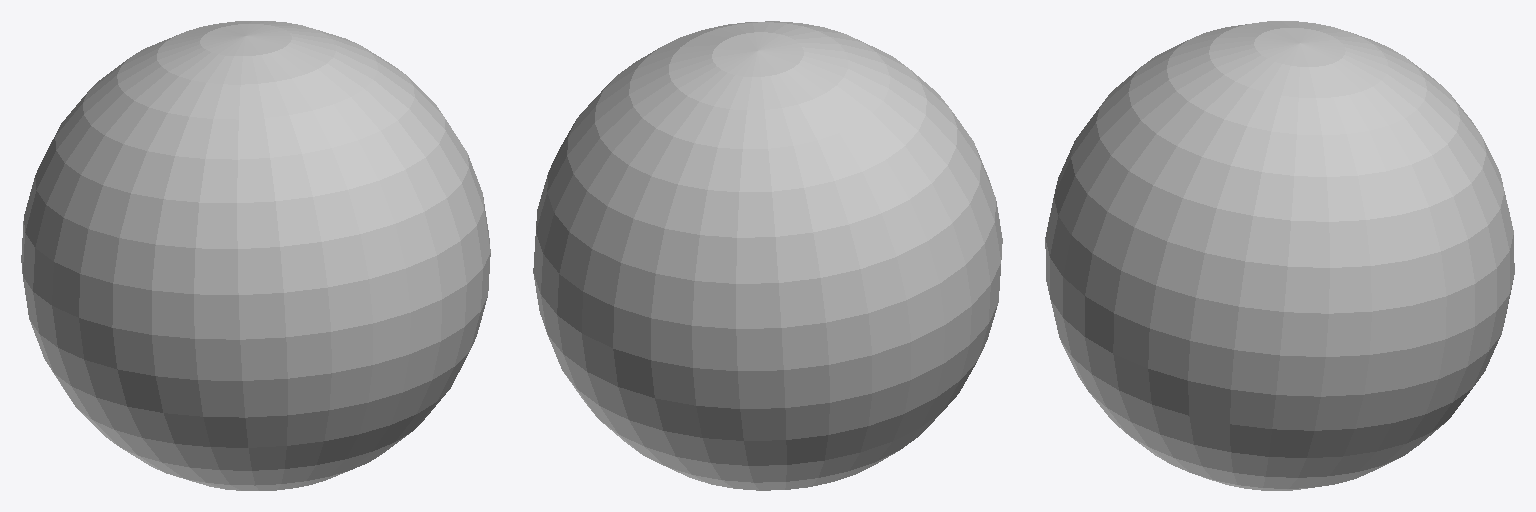
The model's file is sBumper2.obj.
3 views of the same model, side by side, from view 1: azimuth 30°, elevation 25°; view 2: azimuth 150°, elevation 25°; view 3: azimuth 270°, elevation 25° (orthographic).
Parts seen in each view (by area): view 1: Sphere_Sphere.000; view 2: Sphere_Sphere.000; view 3: Sphere_Sphere.000.
Boxes of the visible parts, box(x1,y1,x2,y2) form: Sphere_Sphere.000: box(21, 21, 490, 490); Sphere_Sphere.000: box(533, 21, 1002, 490); Sphere_Sphere.000: box(1045, 21, 1514, 490).
Bounding box in the file's own units: 2.8 × 2.79 × 2.79.